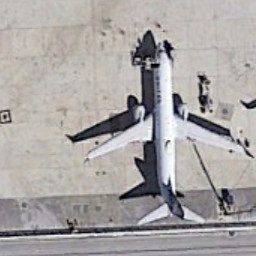Airplane: (81, 39, 249, 232)
